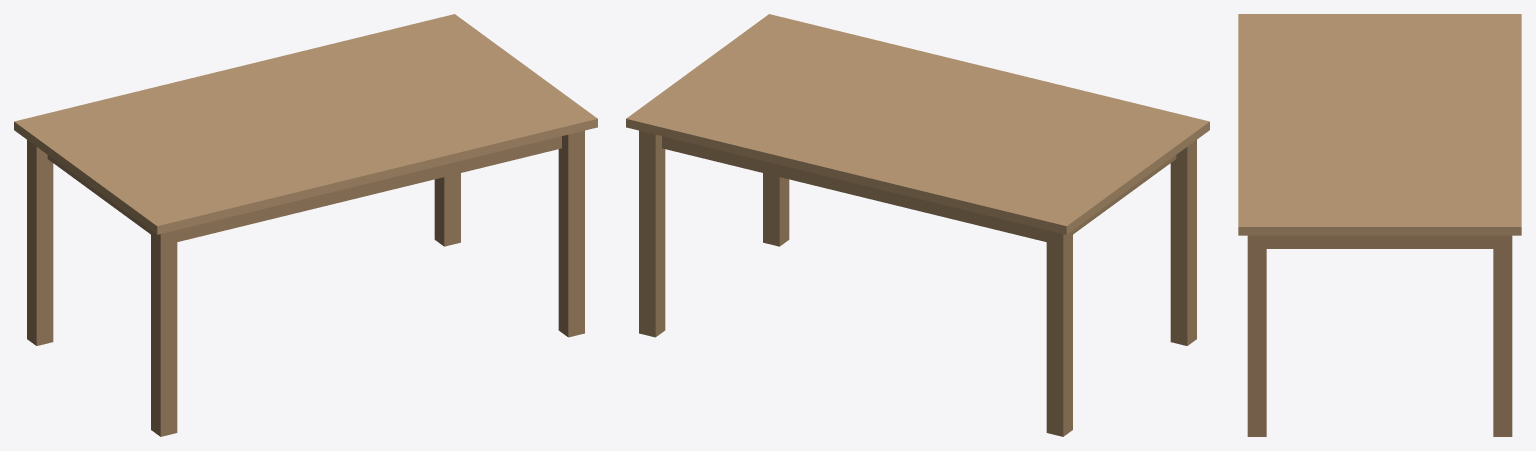
The picture shows the model from 3 angles, left to right: view 1: azimuth 30°, elevation 25°; view 2: azimuth 150°, elevation 25°; view 3: azimuth 270°, elevation 25°; orthographic projection.
Visible parts, largest first — view 1: Top, Legs, Apron; view 2: Top, Legs, Apron; view 3: Top, Legs, Apron.
Part boxes in pixels (x1,y1,x2,y2): Top: [14, 14, 597, 234]; Legs: [27, 130, 584, 436]; Apron: [47, 136, 561, 241]; Top: [626, 14, 1209, 234]; Legs: [639, 130, 1196, 436]; Apron: [662, 136, 1176, 241]; Top: [1238, 14, 1521, 235]; Legs: [1247, 235, 1512, 436]; Apron: [1266, 235, 1493, 248].
Bounding box in the file's own units: 1.6 × 0.75 × 0.9.
